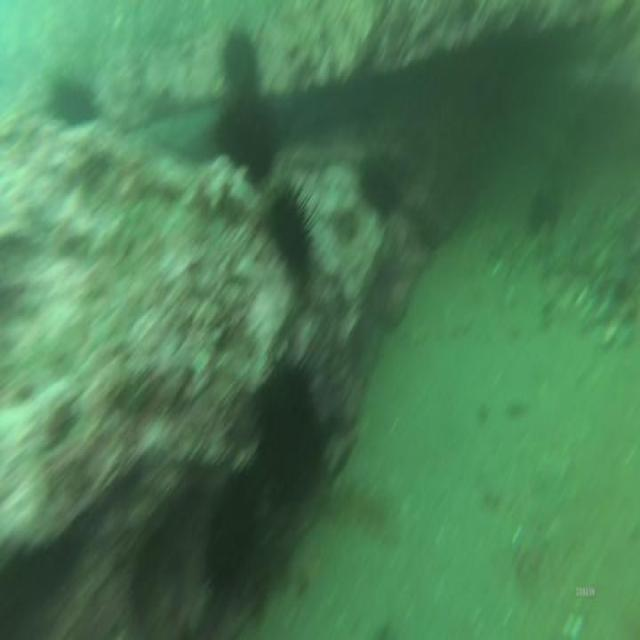echinus: (248, 340, 332, 509), (203, 466, 260, 591), (265, 172, 323, 286), (215, 98, 279, 180), (354, 152, 404, 224), (220, 30, 266, 107), (52, 68, 102, 131)
